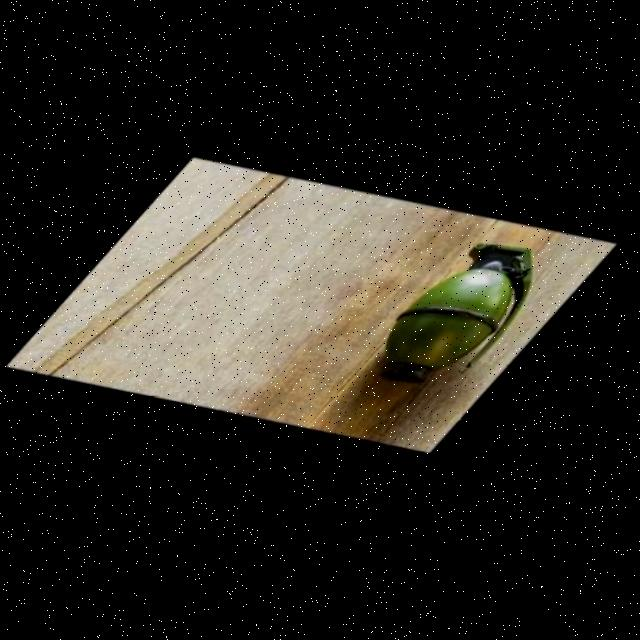grenade: (342, 224, 568, 412)
